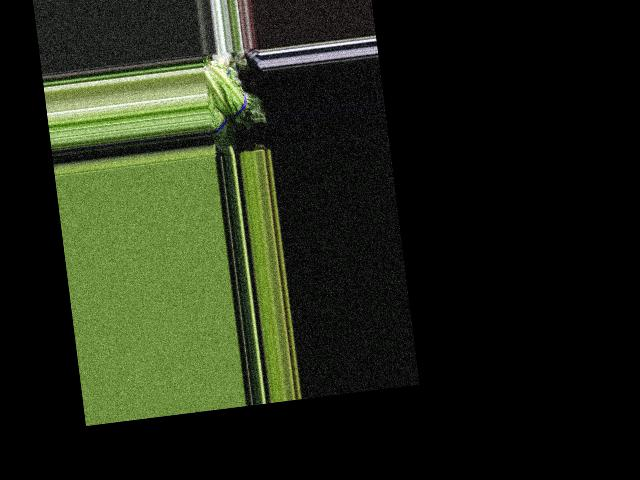lettuce: (203, 63, 263, 133)
